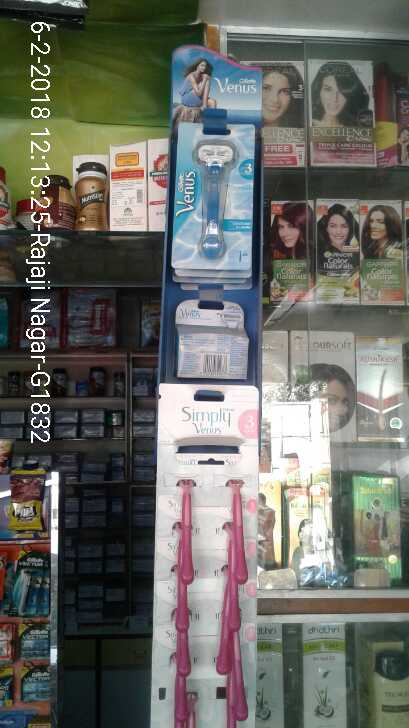venus: (157, 461, 256, 727), (175, 122, 253, 271)
